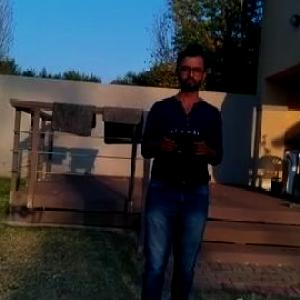follow: (131, 37, 227, 299)
